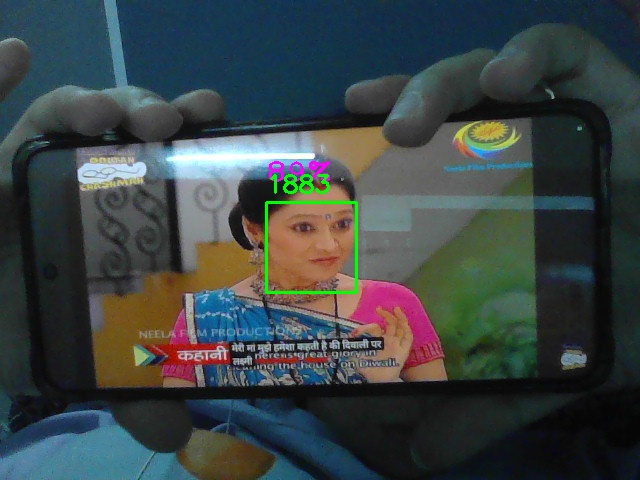fake: (266, 202, 357, 293)
